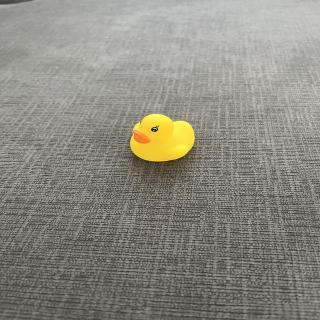duck_regular: (129, 113, 199, 165)
